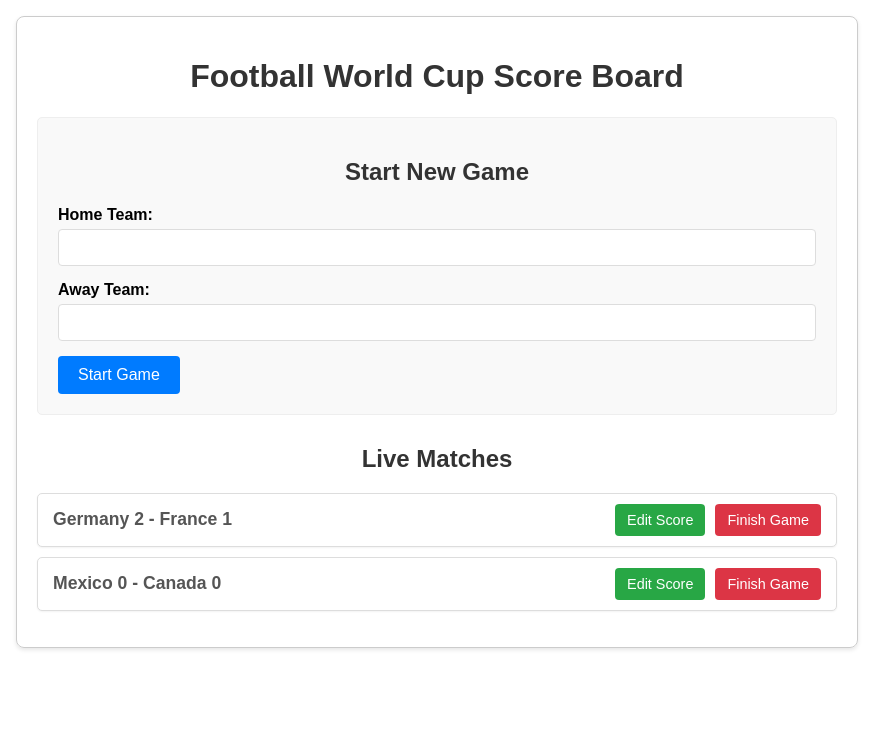
Test: App Component › should finish a game and remove it from the display
The image size is (875, 731).
Type "Uruguay" into the field labelled "Home Team:" at [437, 247], box [58,229,816,266]
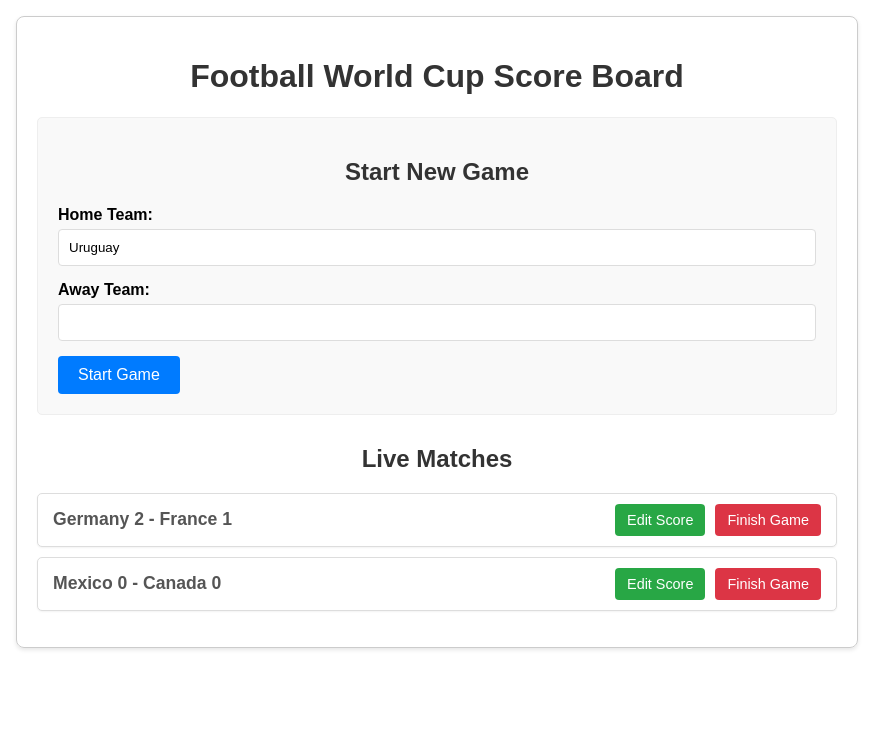
Type "Italy" into the field labelled "Away Team:" at [437, 322], box [58,304,816,341]
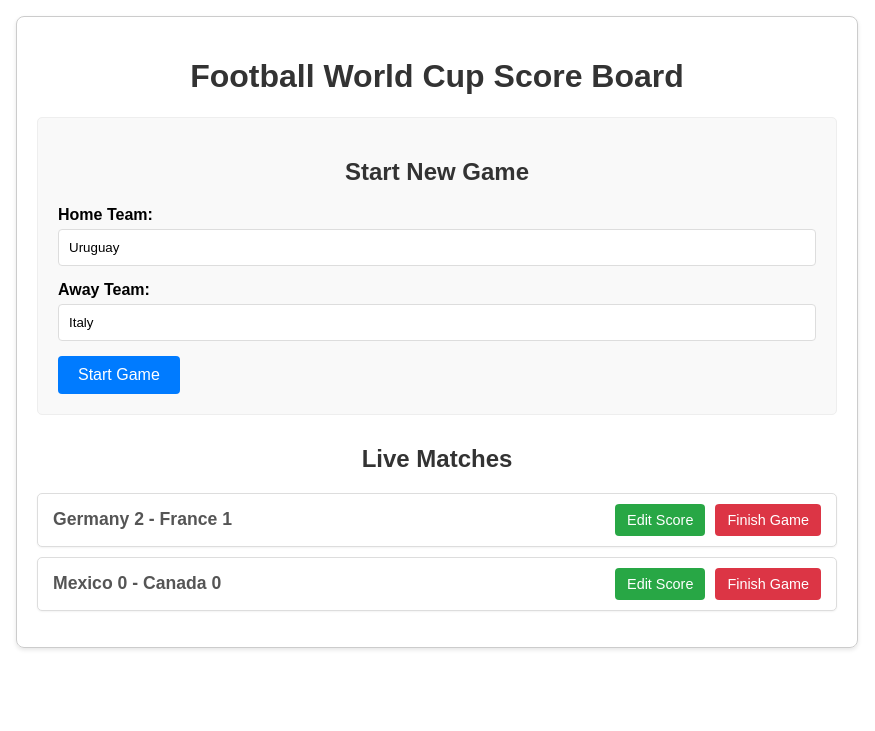
Click the button "Start Game" at [119, 375], box [58,356,180,394]
Wait 10 ms
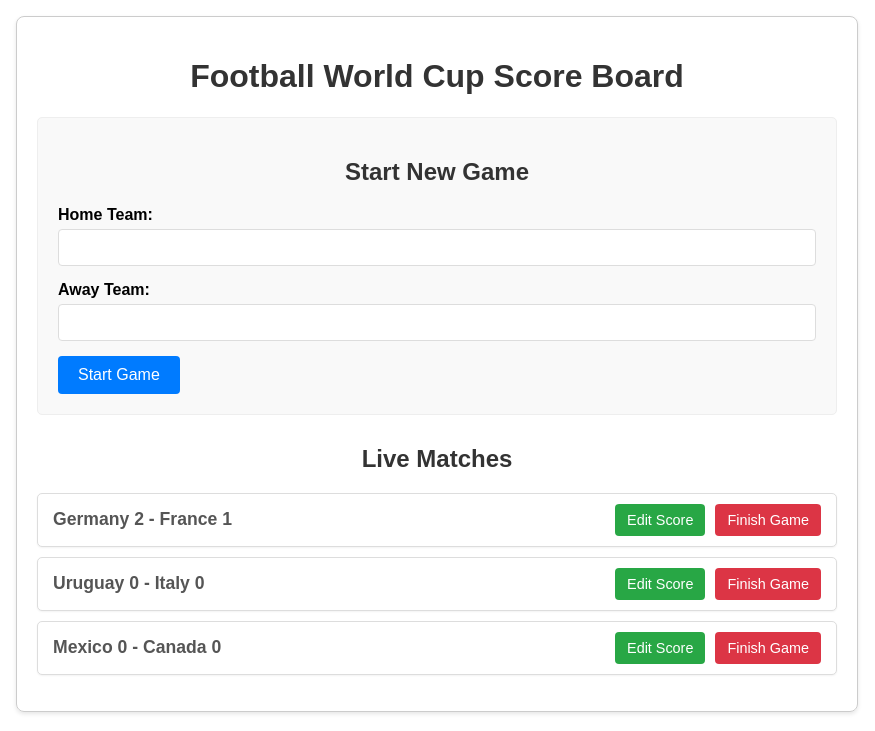
Result: the list item "Uruguay 0 - Italy 0 Edit Score Finish Game" is shown at [37,557,837,611]
Note: Click "Finish Game"
Click the button "Finish Game" in the row of "Uruguay" at [768, 584], box [715,568,821,600]
Wait 10 ms
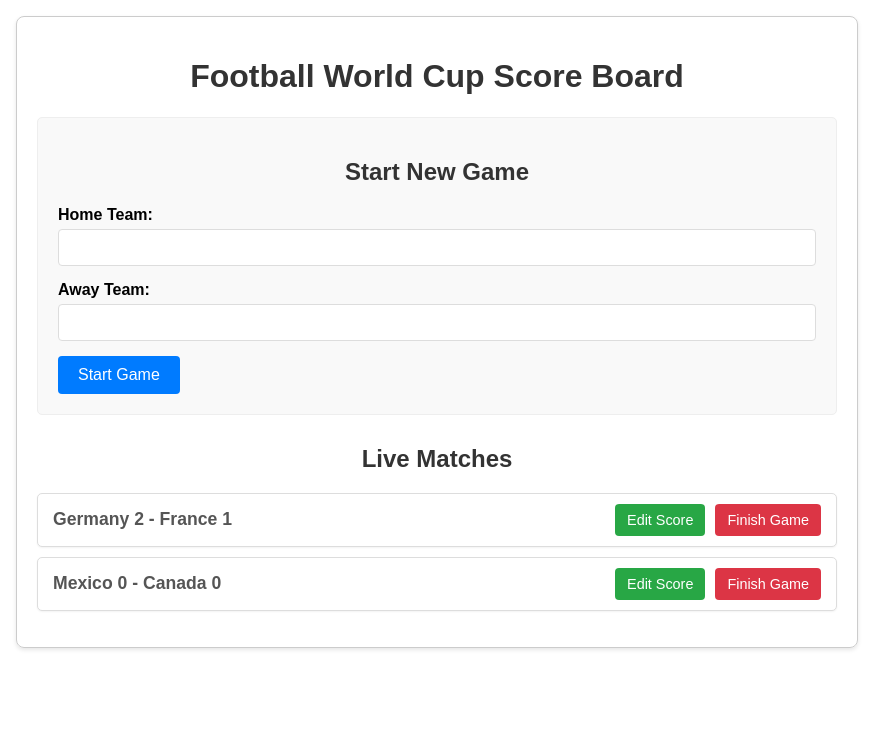
Result: the text "Uruguay 0 - Italy 0" is gone
